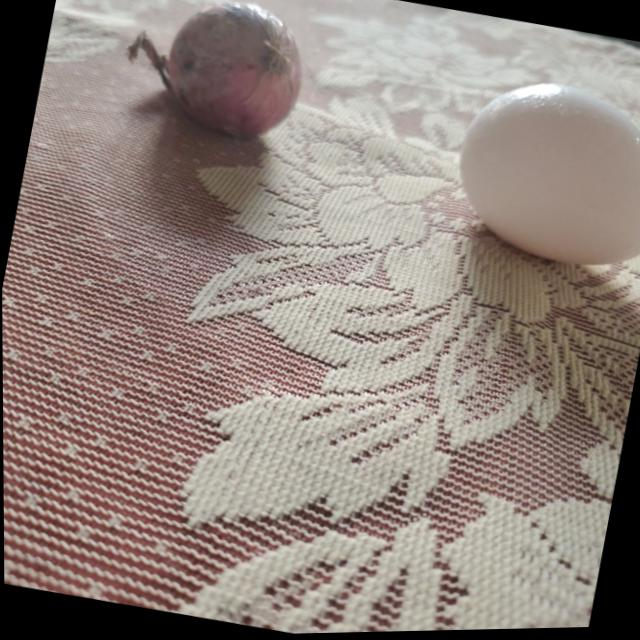egg: (447, 78, 640, 285)
onion: (130, 0, 314, 151)
